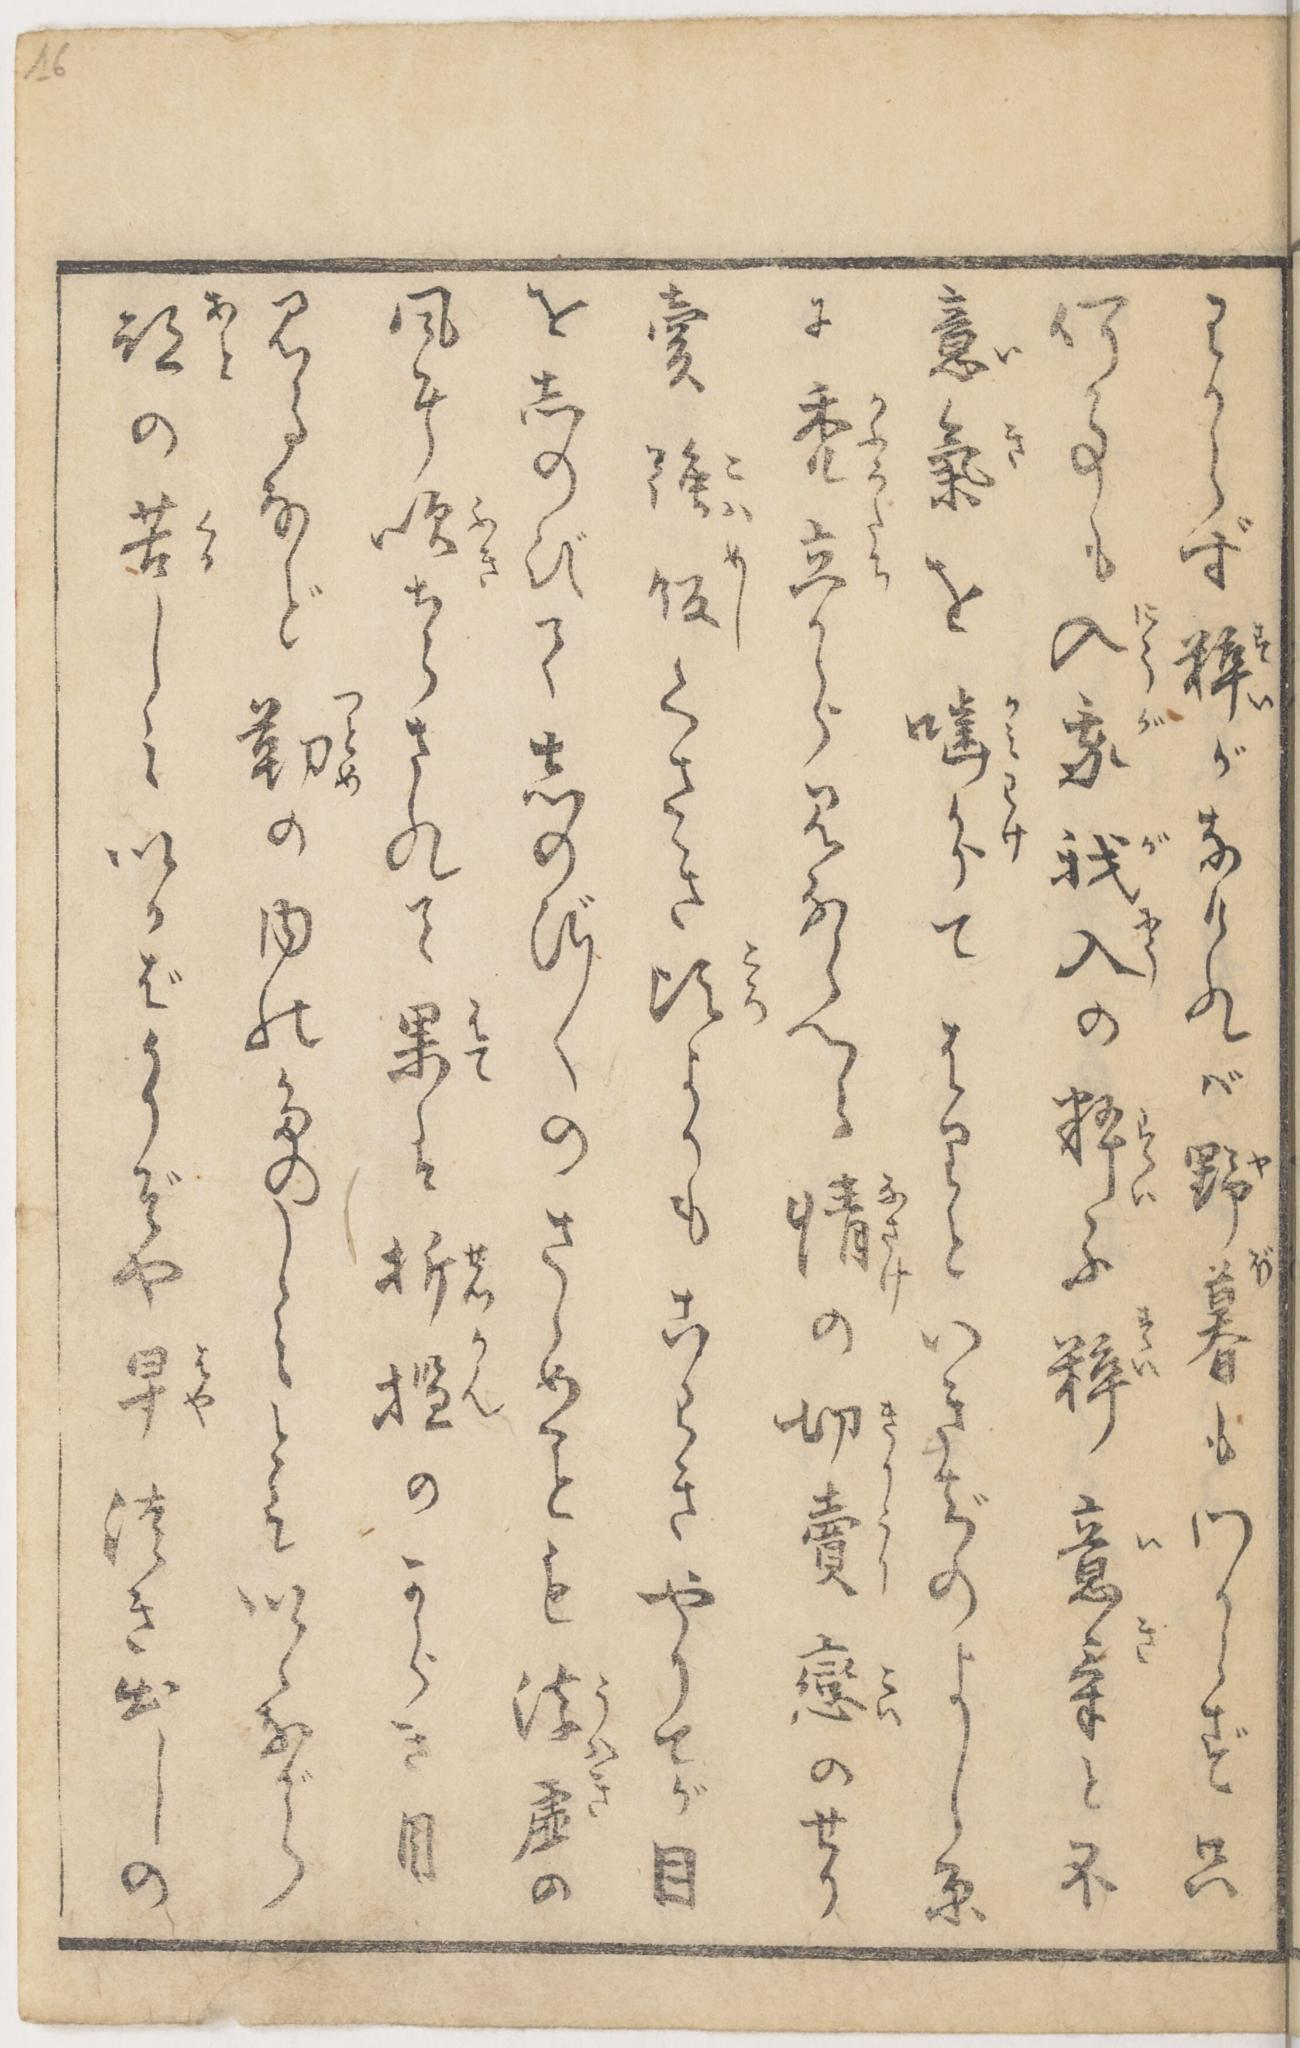MainZone-Character: (781, 1164, 925, 1303), (357, 1320, 513, 1442), (1045, 1302, 1176, 1434), (1187, 1233, 1293, 1385), (781, 1636, 922, 1748), (1052, 1082, 1173, 1208), (916, 400, 1039, 522), (633, 937, 781, 1037), (1061, 1609, 1173, 1741), (240, 682, 367, 796), (794, 1478, 915, 1596), (504, 1743, 627, 1855), (360, 1233, 512, 1323), (627, 428, 761, 528), (384, 982, 500, 1097), (1045, 691, 1173, 794), (773, 1387, 918, 1478), (107, 287, 245, 381), (925, 767, 1034, 885), (376, 484, 513, 576), (115, 1340, 231, 1448), (794, 382, 904, 493), (894, 681, 1036, 766), (1045, 597, 1164, 691), (921, 284, 1030, 387), (1063, 1500, 1167, 1606), (1046, 902, 1175, 987), (790, 506, 903, 602), (1176, 615, 1279, 717), (1055, 812, 1170, 900), (115, 485, 219, 581), (1184, 1131, 1281, 1231), (509, 1669, 624, 1751)
MainZone-Ruby: (872, 1166, 919, 1318), (464, 490, 519, 581), (460, 1321, 509, 1421), (854, 393, 904, 488), (178, 1340, 228, 1429), (334, 679, 372, 797), (196, 287, 243, 378), (1127, 1097, 1166, 1206), (1242, 621, 1284, 721), (457, 996, 497, 1097), (582, 1739, 625, 1829), (866, 1487, 903, 1582), (458, 1231, 501, 1312), (716, 448, 760, 528), (190, 503, 230, 584), (1239, 1234, 1288, 1300), (997, 766, 1030, 864), (736, 936, 773, 1023), (1133, 905, 1173, 984), (584, 1663, 622, 1745), (1128, 599, 1166, 684), (869, 1390, 907, 1470), (863, 502, 899, 585), (993, 415, 1034, 479), (1128, 1305, 1163, 1379), (1000, 690, 1033, 766), (872, 1663, 909, 1729), (1131, 1612, 1169, 1660), (1245, 1142, 1282, 1188), (1131, 1517, 1169, 1561), (990, 337, 1027, 381), (1137, 703, 1172, 742), (1142, 818, 1175, 854)
